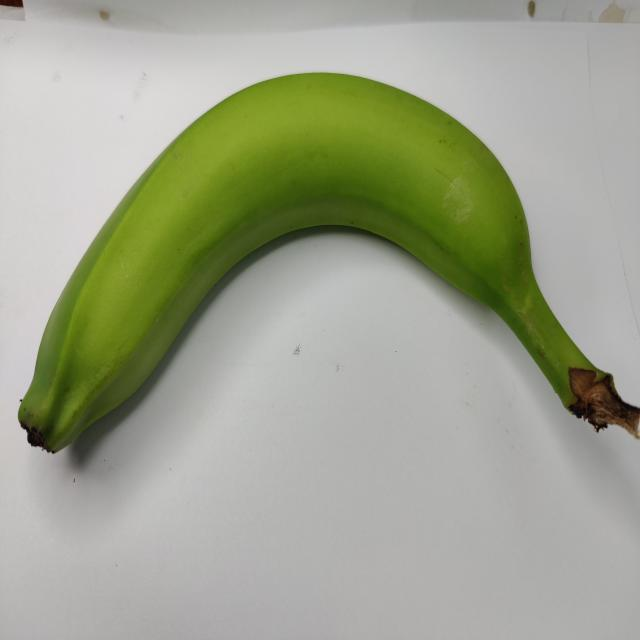raw: (15, 62, 640, 529)
